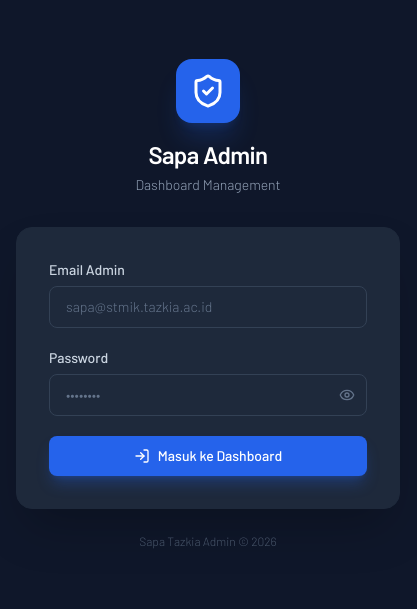
Test: AdminLogin › rejects non-admin login
Type "a@x.com" into the field with placeholder "sapa@stmik.tazkia.ac.id" at coordinates (208, 307), box [49,286,367,328]
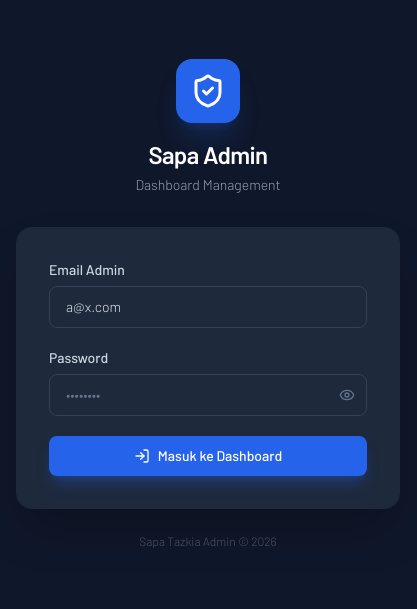
Type "pw" into the password field with placeholder "••••••••" at coordinates (208, 395), box [49,374,367,416]
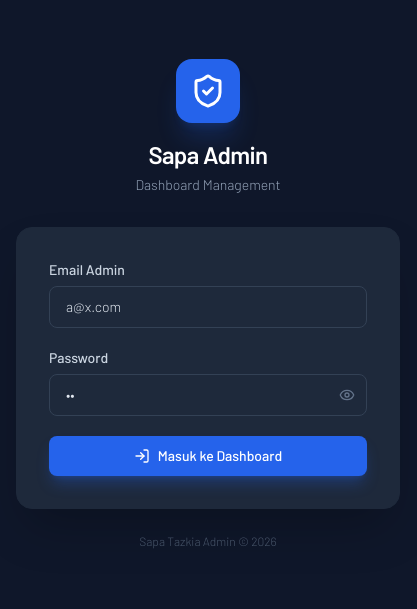
Click the button "Masuk ke Dashboard" at coordinates (208, 456), box [49,436,367,476]
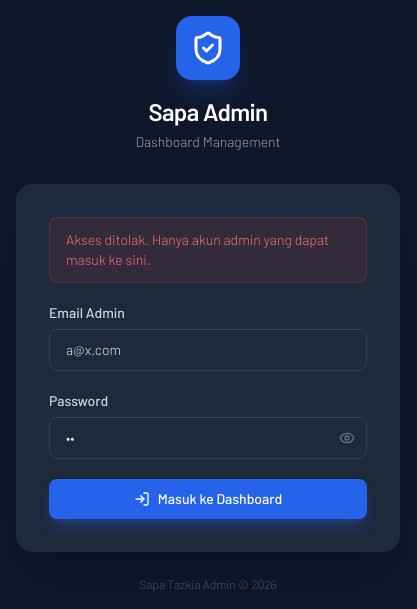
Result: the text "Akses ditolak. Hanya akun admin yang dapat masuk ke sini." is shown at [49,217,367,283]
